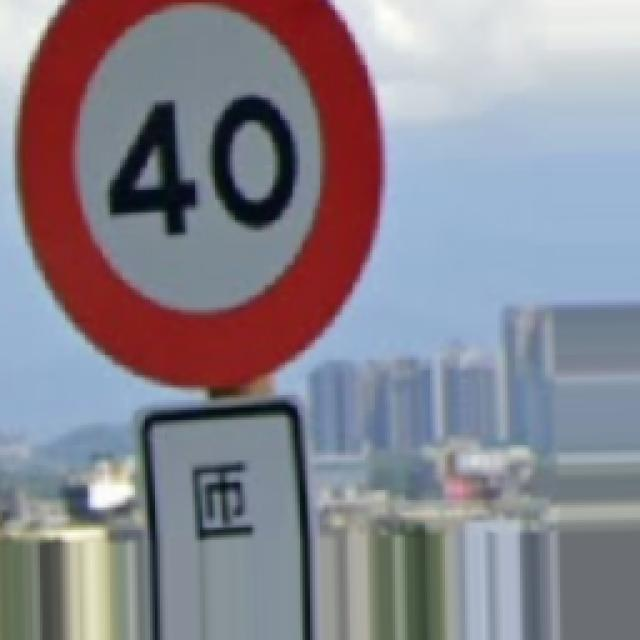Speed Limit -40-: (18, 0, 380, 385)
